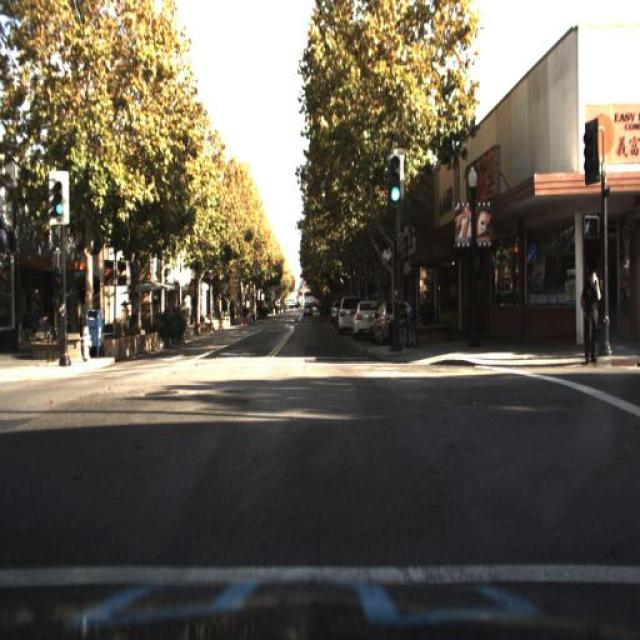car: (371, 304, 413, 352), (353, 311, 383, 361), (335, 294, 361, 344), (353, 307, 378, 337), (339, 300, 350, 336), (300, 306, 314, 326)
trafficLight: (586, 272, 610, 372), (580, 266, 602, 366), (390, 308, 409, 372), (22, 296, 36, 346)
trafficLight-Green: (387, 151, 402, 208)
trafficLight-GreenLeft: (50, 175, 64, 229)
